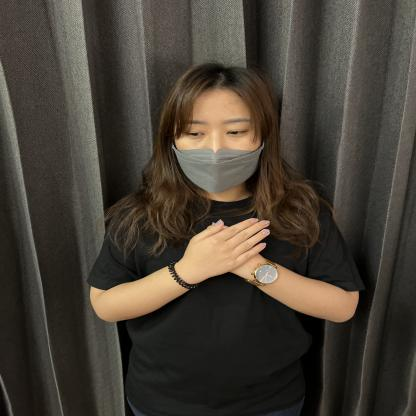Grieve: (148, 210, 336, 308)
